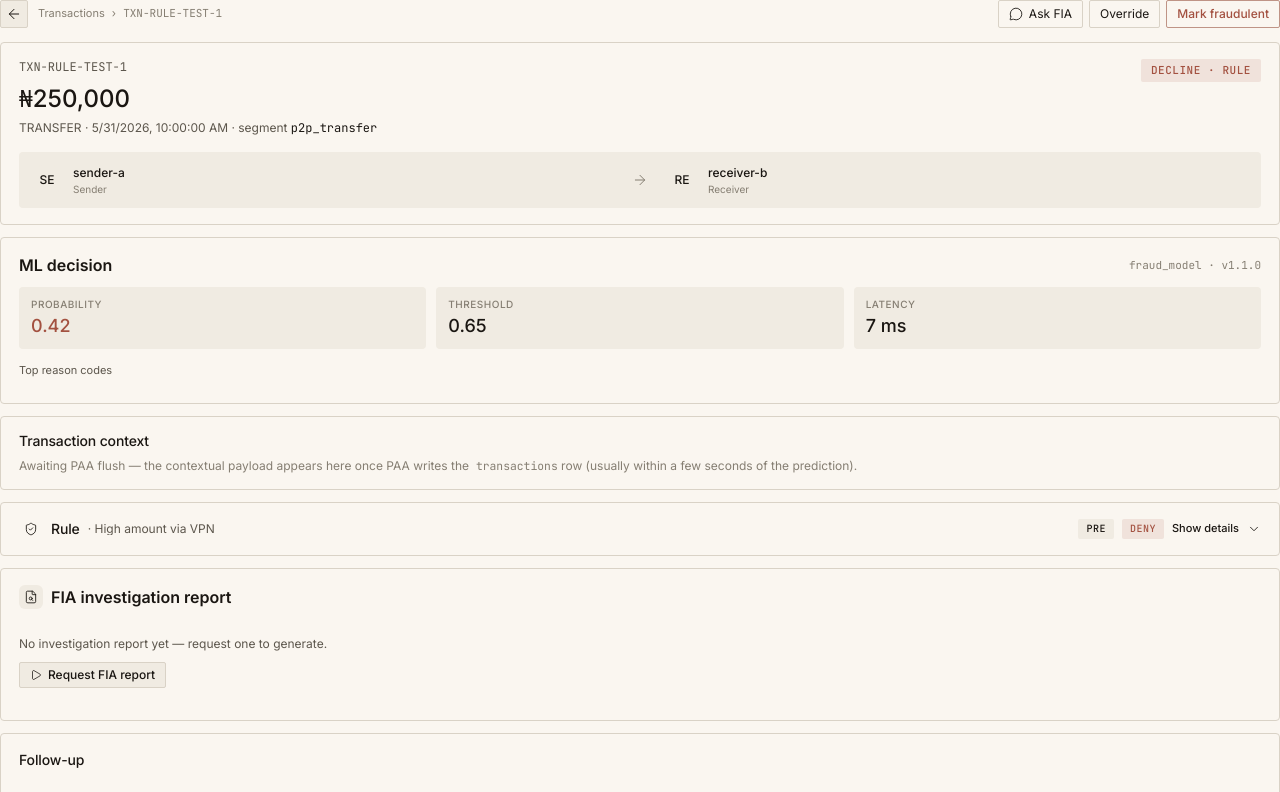
Scenario: TransactionDetail — rule snapshot panel › renders rule name, stage, action, and expression from the audit row
Expected: the element with test id "rule-panel" is shown, [0,502,1279,556]
Expected: the text with test id "rule-name" shows "High amount via VPN", [94,521,215,536]
Click the button with test id "rule-panel-toggle" at (155, 528), box [19,517,1261,541]
(page scrolled)
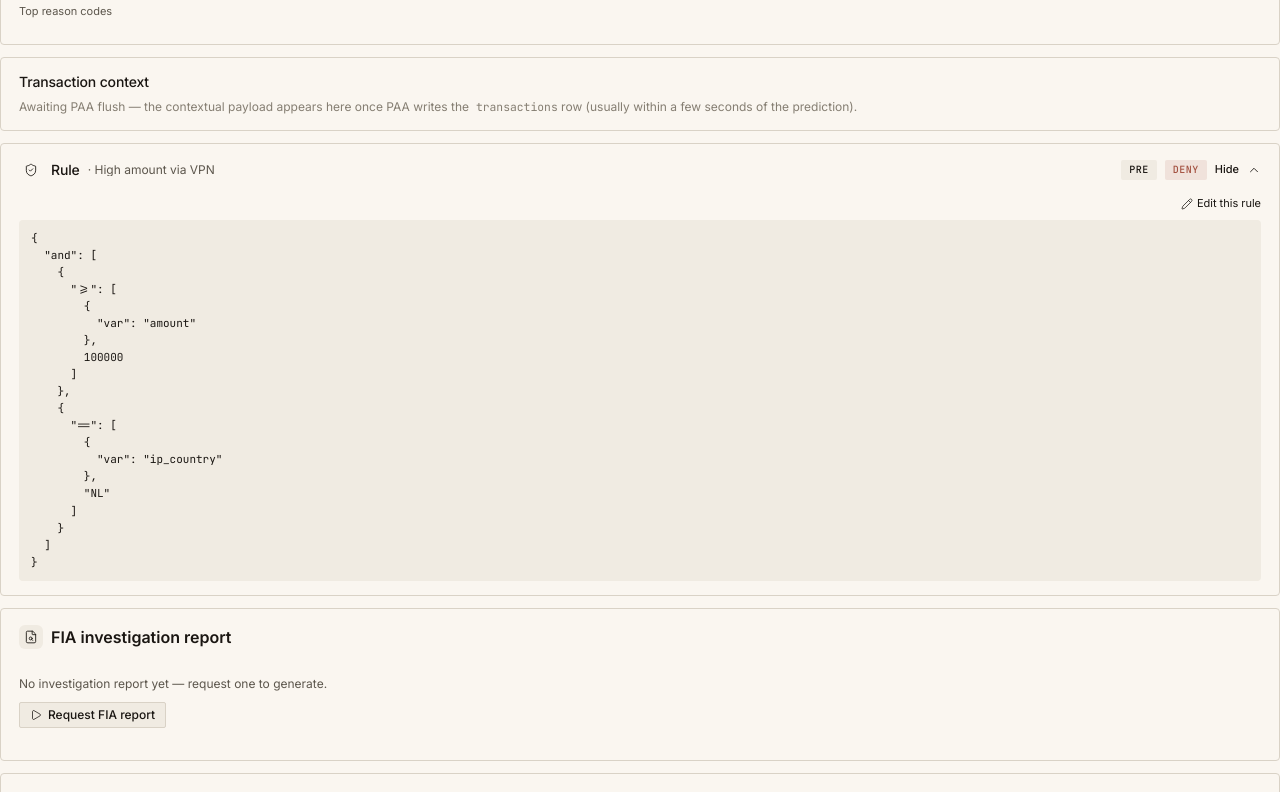
Now the text with test id "rule-expression" shows "\"ip_country\"", box [31,231,222,569]
Now the text with test id "rule-expression" shows "100000", box [31,231,222,569]
